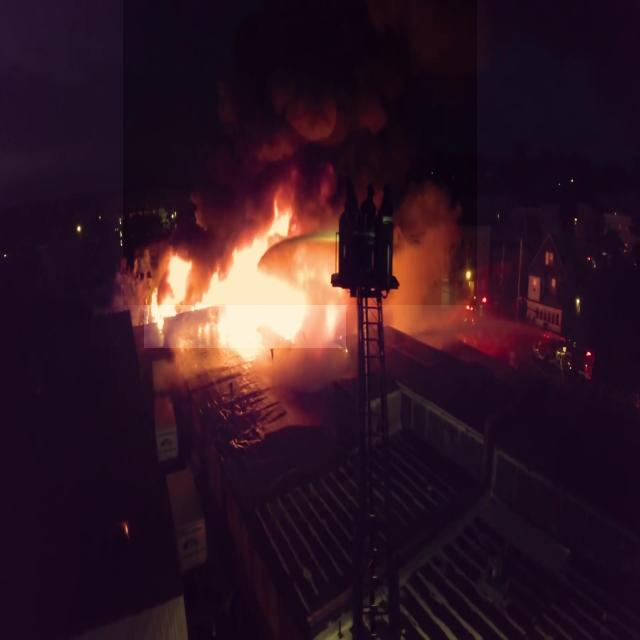Fire: (144, 210, 346, 348)
Smoke: (123, 0, 477, 305)
